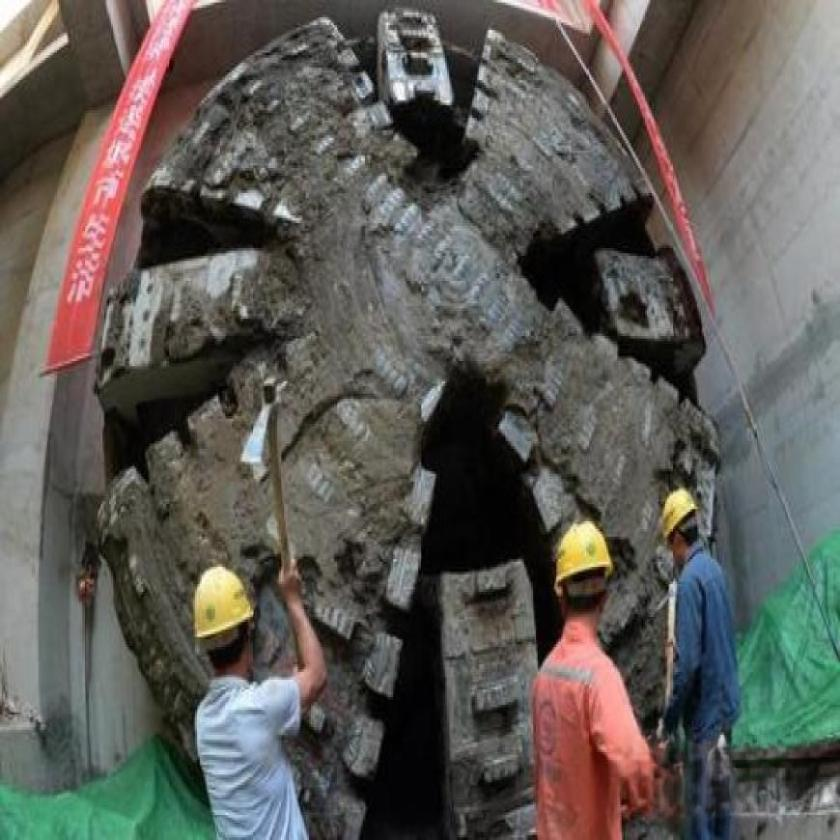Con_casco: (182, 560, 272, 695), (539, 503, 624, 628), (658, 487, 703, 570)
